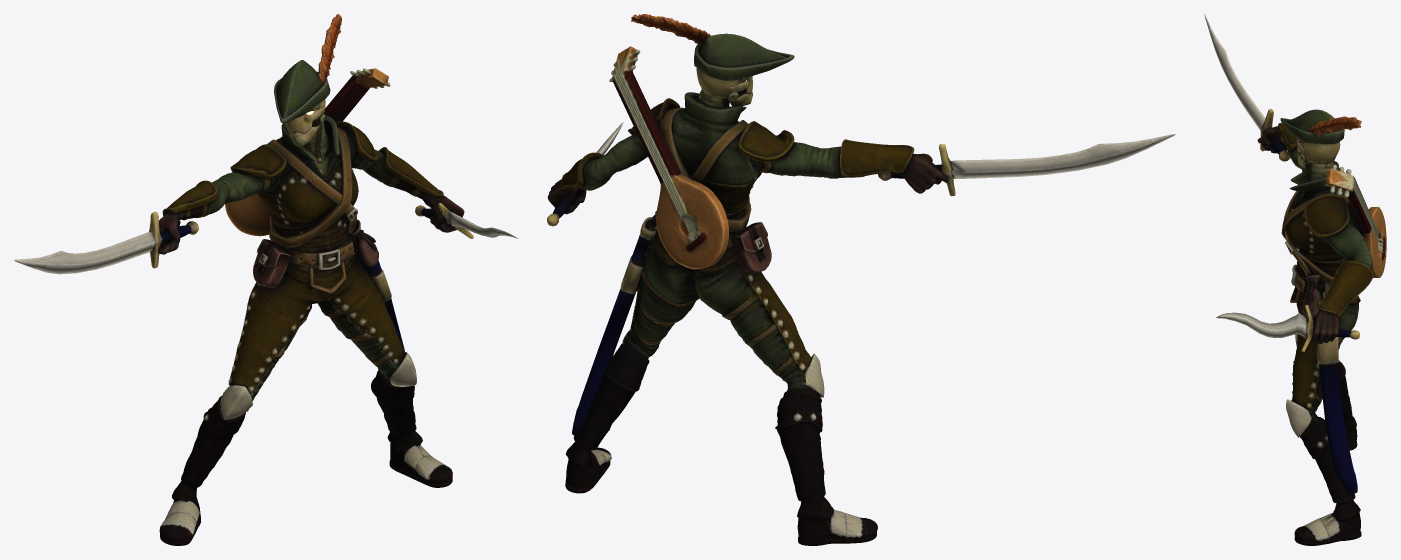
Rendered from MZ4250 - Warforged Duelist Bard_1.glb.
The picture shows the model from 3 angles, left to right: view 1: azimuth 30°, elevation 25°; view 2: azimuth 150°, elevation 25°; view 3: azimuth 270°, elevation 25°; orthographic projection. The views are drawn at different scales.
Visible parts, largest first — view 1: Strap Belt.001; view 2: Strap Belt.001; view 3: Strap Belt.001.
Boxes of the visible parts, x1,y1,x2,y2 form: Strap Belt.001: (14, 14, 518, 545); Strap Belt.001: (547, 14, 1175, 545); Strap Belt.001: (1204, 14, 1386, 545).
Size of the model in its own units: 108 by 92.15 by 38.82.
1 material, 1 textured.
